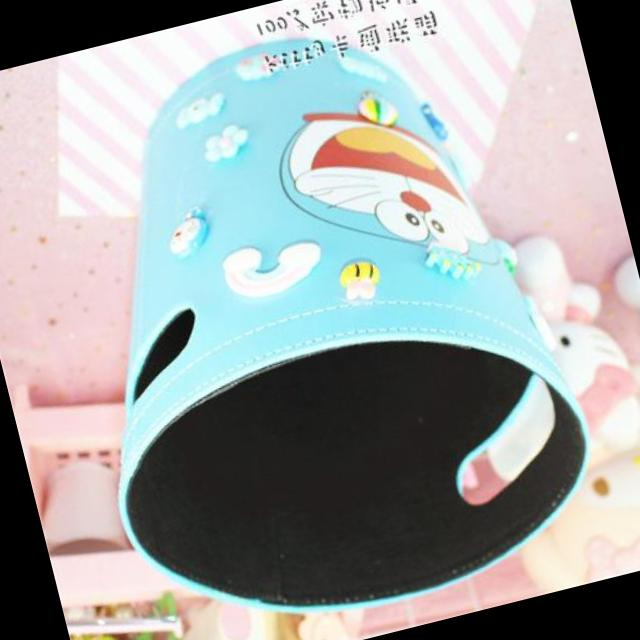dustbin: (8, 0, 630, 640)
